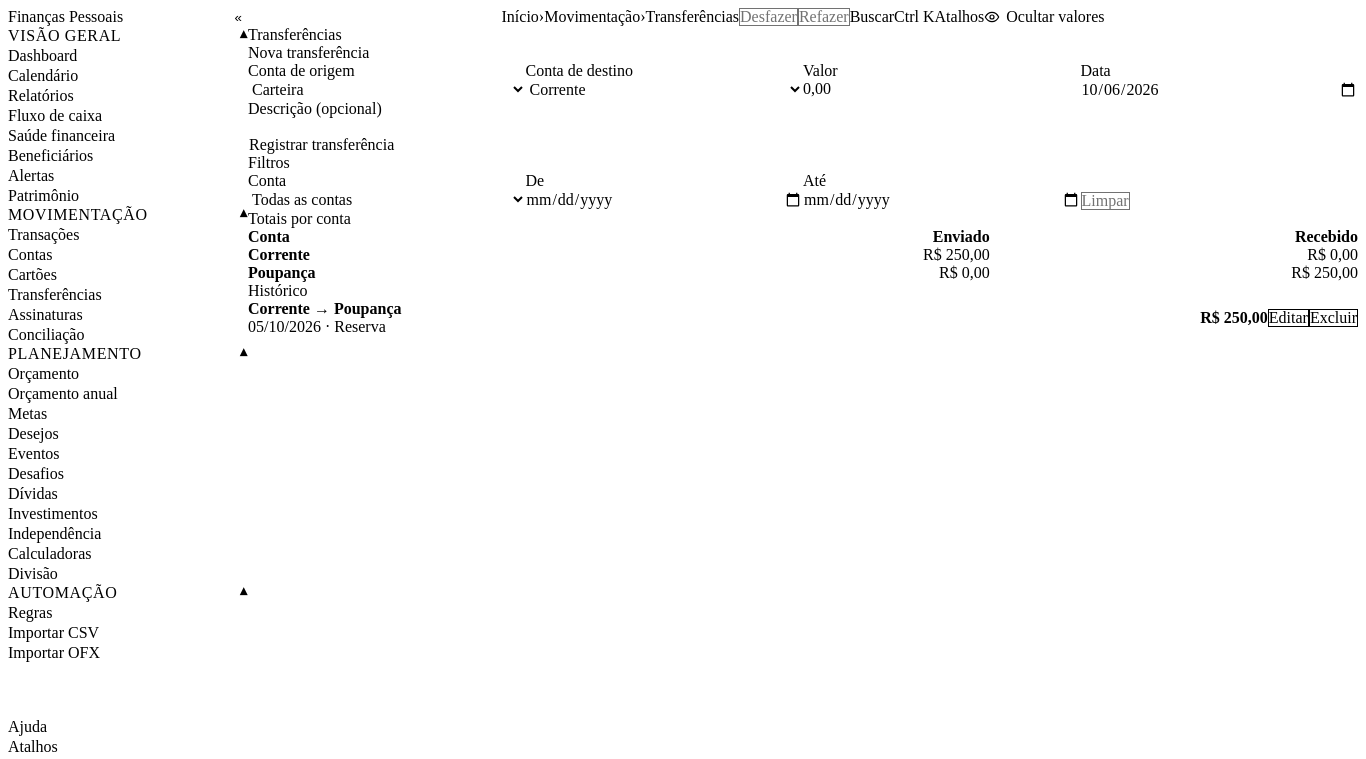
Test: transferências: tela › critério 6: edita pela tela, validando e refletindo no saldo
Click the button with aria-label "Editar transferência" at point(1288, 318), box [1268,309,1309,327]
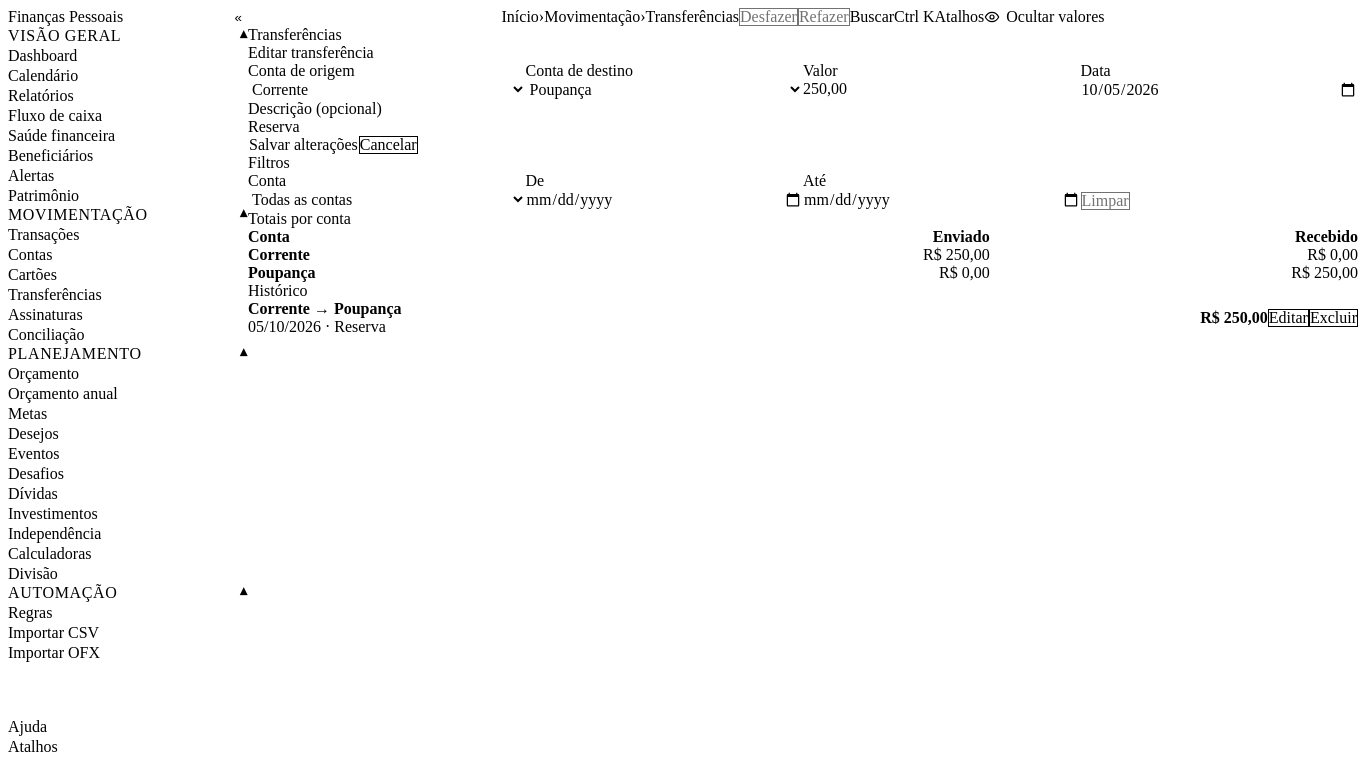
Check: the field labelled "Valor" holds "250,00"
Replace the text in the field labelled "Valor" with "0" at point(942, 89), box [803,80,1080,98]
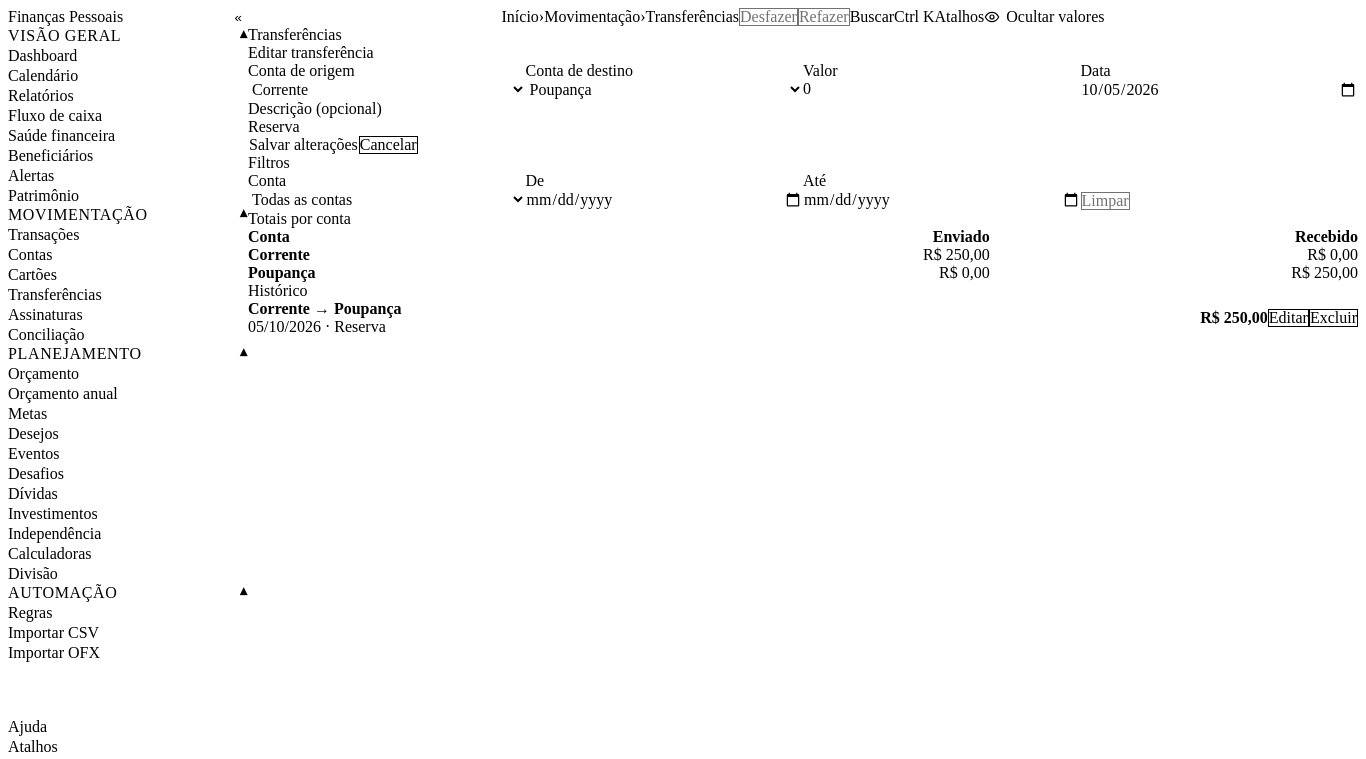
Click the button "Salvar alterações" at point(303, 145), box [248,136,359,154]
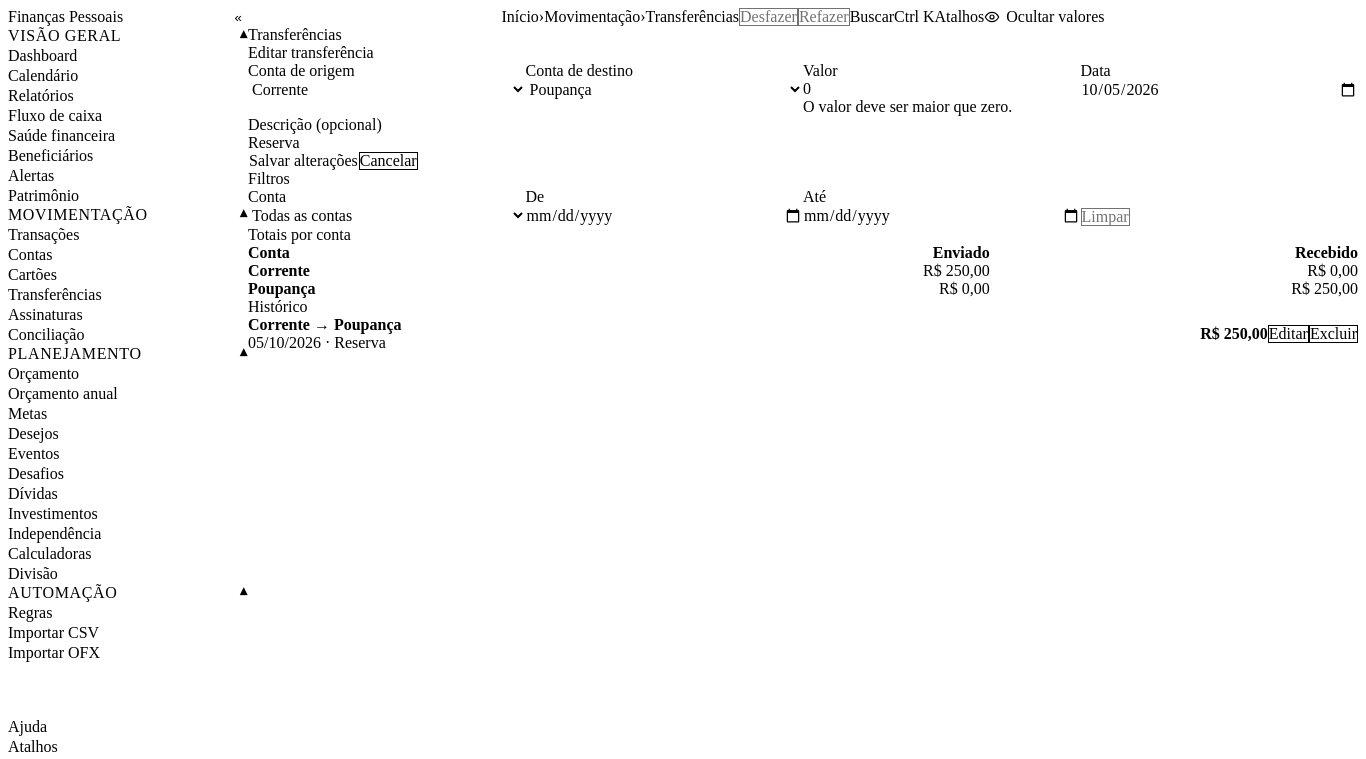
Check: the message shows "maior que zero", box [803,98,1012,115]
Replace the text in the field labelled "Valor" with "30,00" at point(942, 89), box [803,80,1080,98]
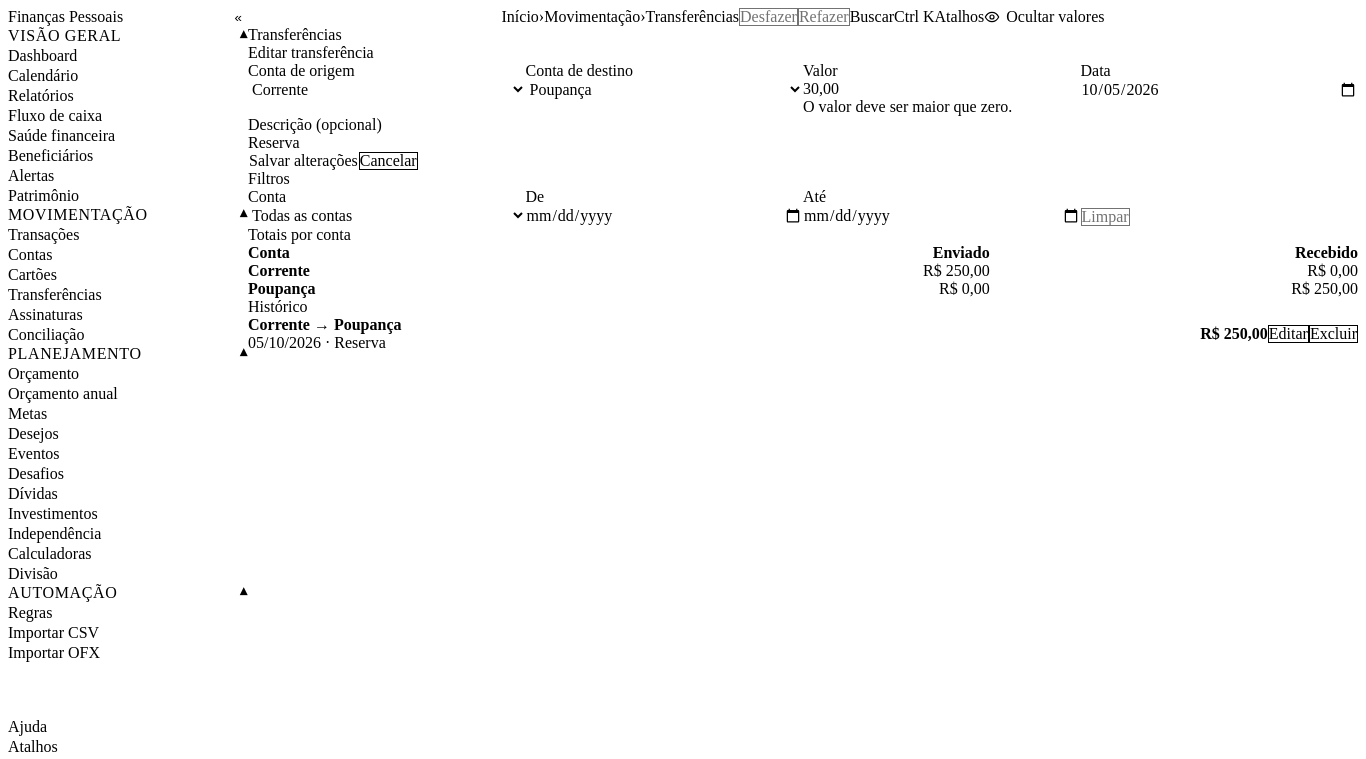
Click the button "Salvar alterações" at point(303, 161), box [248,152,359,170]
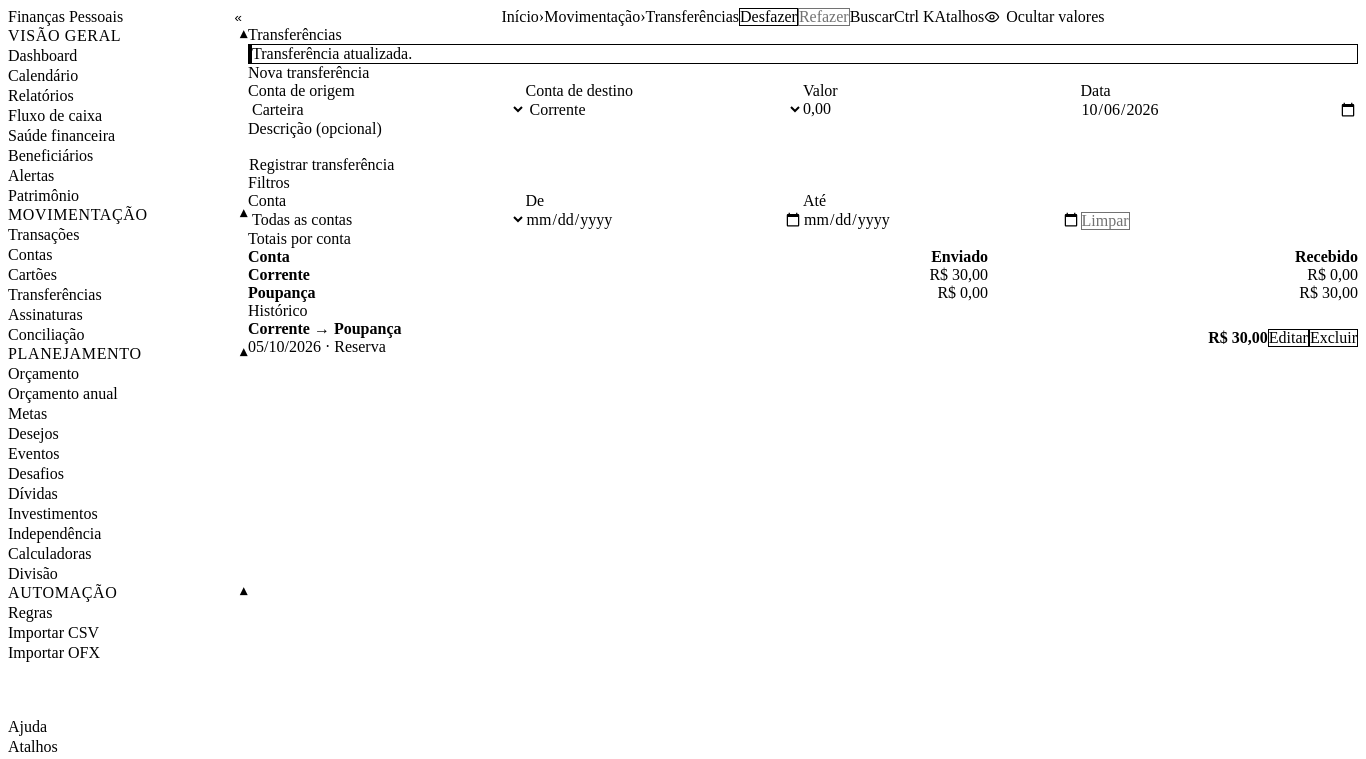
Check: the form named "Nova transferência" is shown, box [248,82,1358,174]
